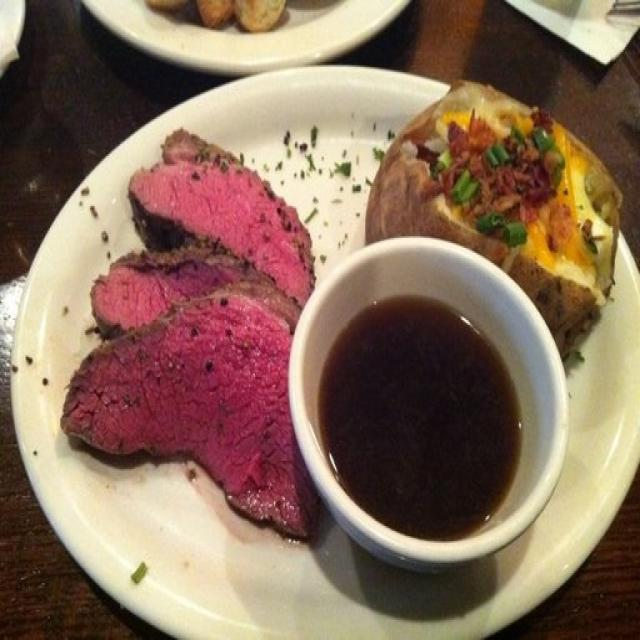Steak: (78, 113, 318, 540)
